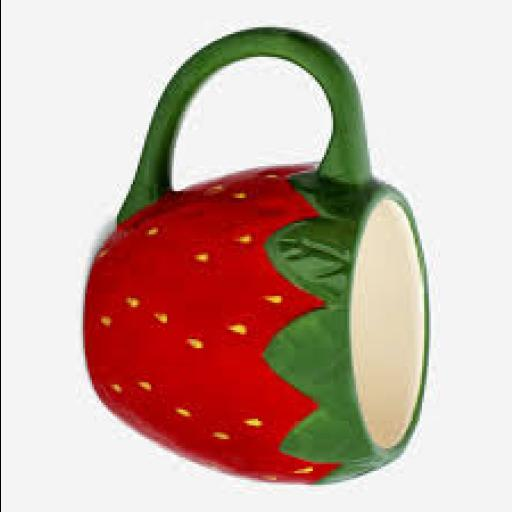red mug: (89, 32, 428, 482)
